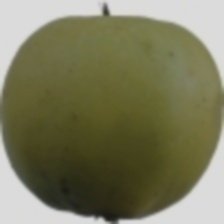apple: (23, 43, 194, 210)
